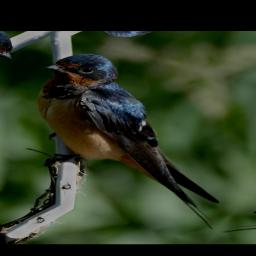Swallow: (0, 44, 256, 232)
